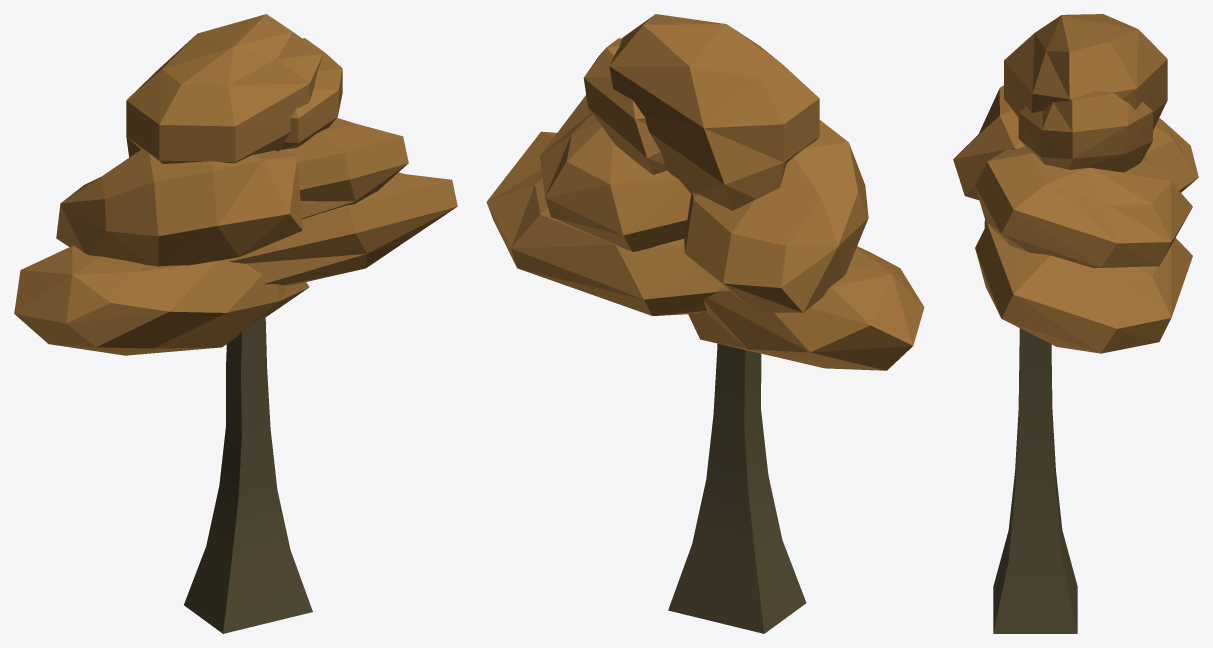
File: simpletree2.fbx
3 views of the same model, side by side, from view 1: azimuth 30°, elevation 25°; view 2: azimuth 150°, elevation 25°; view 3: azimuth 270°, elevation 25° (orthographic). The views are drawn at different scales.
Visible parts, largest first — view 1: pasted__pasted__pasted__pSphere1 (×2), pasted__pasted__pSphere1 (×2), pasted__pasted__pasted__pasted__pSphere1, pasted__pCube1, pasted__pSphere1; view 2: pasted__pasted__pSphere1 (×2), pasted__pasted__pasted__pSphere1 (×2), pasted__pCube1, pasted__pasted__pasted__pasted__pSphere1, pasted__pSphere1; view 3: pasted__pasted__pSphere1 (×2), pasted__pasted__pasted__pSphere1 (×2), pasted__pCube1, pasted__pSphere1.
Boxes of the visible parts, x1=… form: pasted__pasted__pasted__pSphere1 (×2): x1=56, y1=149, x2=457, y2=285; pasted__pasted__pSphere1 (×2): x1=126, y1=14, x2=408, y2=219; pasted__pasted__pasted__pasted__pSphere1: x1=14, y1=245, x2=309, y2=355; pasted__pCube1: x1=184, y1=315, x2=312, y2=633; pasted__pSphere1: x1=281, y1=38, x2=342, y2=149; pasted__pasted__pSphere1 (×2): x1=540, y1=14, x2=819, y2=251; pasted__pasted__pasted__pSphere1 (×2): x1=486, y1=120, x2=868, y2=315; pasted__pCube1: x1=668, y1=343, x2=806, y2=633; pasted__pasted__pasted__pasted__pSphere1: x1=688, y1=246, x2=924, y2=370; pasted__pSphere1: x1=583, y1=38, x2=667, y2=174; pasted__pasted__pSphere1 (×2): x1=975, y1=14, x2=1192, y2=268; pasted__pasted__pasted__pSphere1 (×2): x1=953, y1=85, x2=1198, y2=353; pasted__pCube1: x1=993, y1=328, x2=1077, y2=633; pasted__pSphere1: x1=1018, y1=91, x2=1152, y2=172.
Size of the model in its own units: 16.06 by 21.5 by 8.03.
